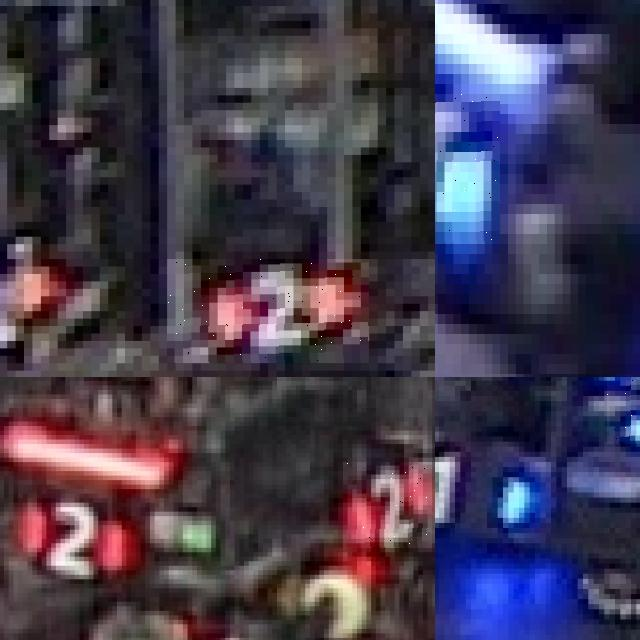B1: (435, 444, 521, 535), (607, 377, 640, 444)
B5: (435, 94, 500, 244)
R2: (167, 259, 369, 363), (18, 494, 126, 574), (343, 462, 432, 548)
